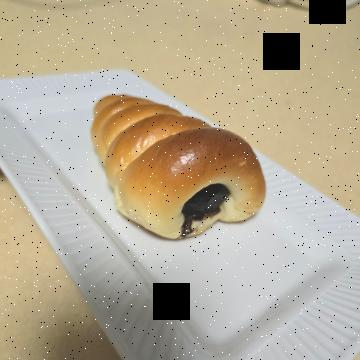cream horn: (85, 79, 263, 280)
